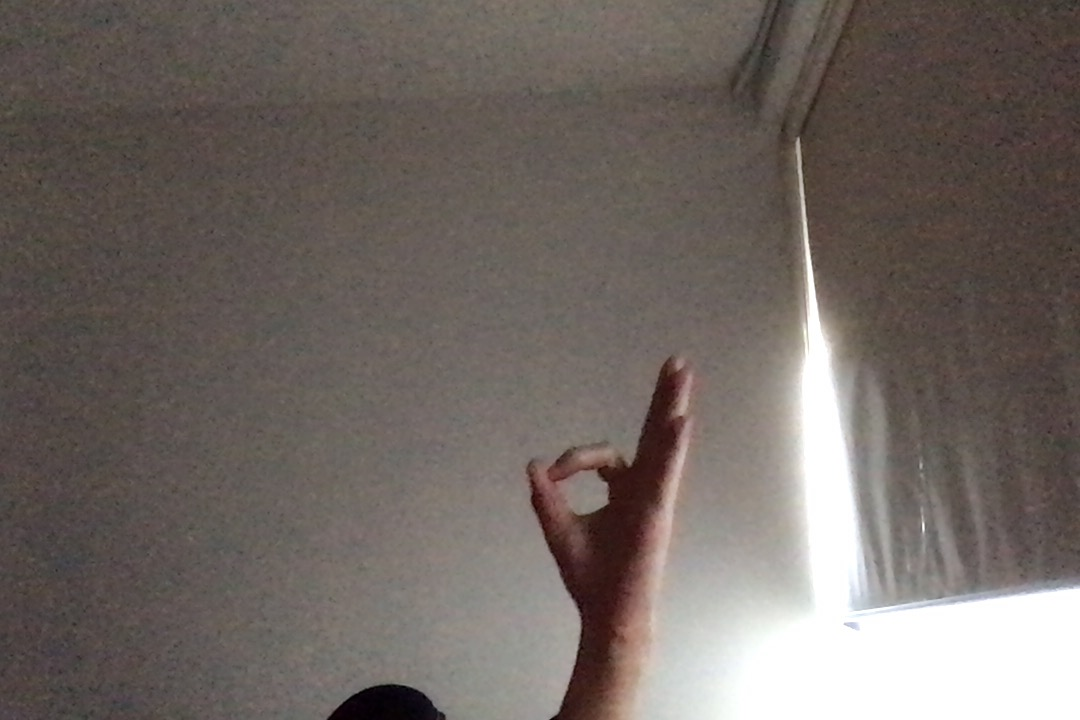oksign: (517, 349, 701, 628)
